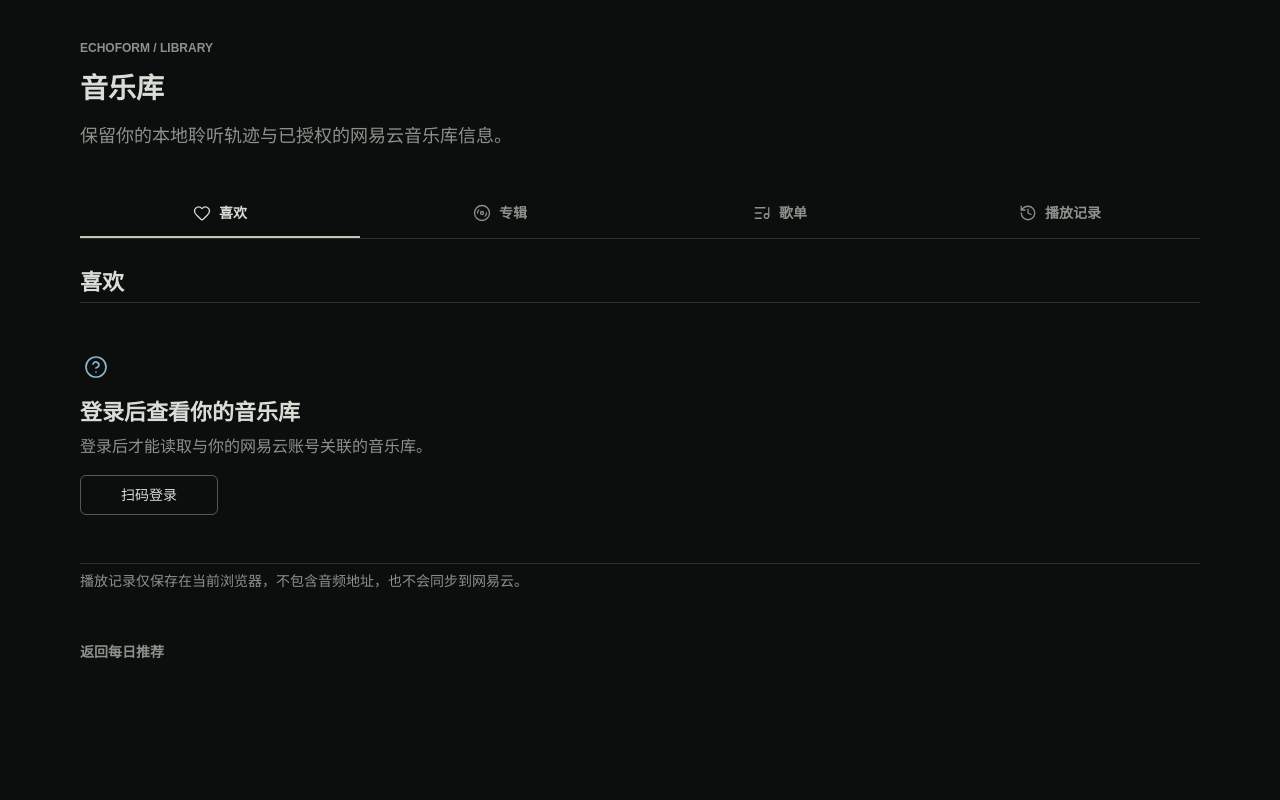
Test: LibraryExperience › retains no fabricated history after a storage failure and retries the read
Step 1. Click the tab "播放记录" → (1060, 214), box [920,190,1200,238]
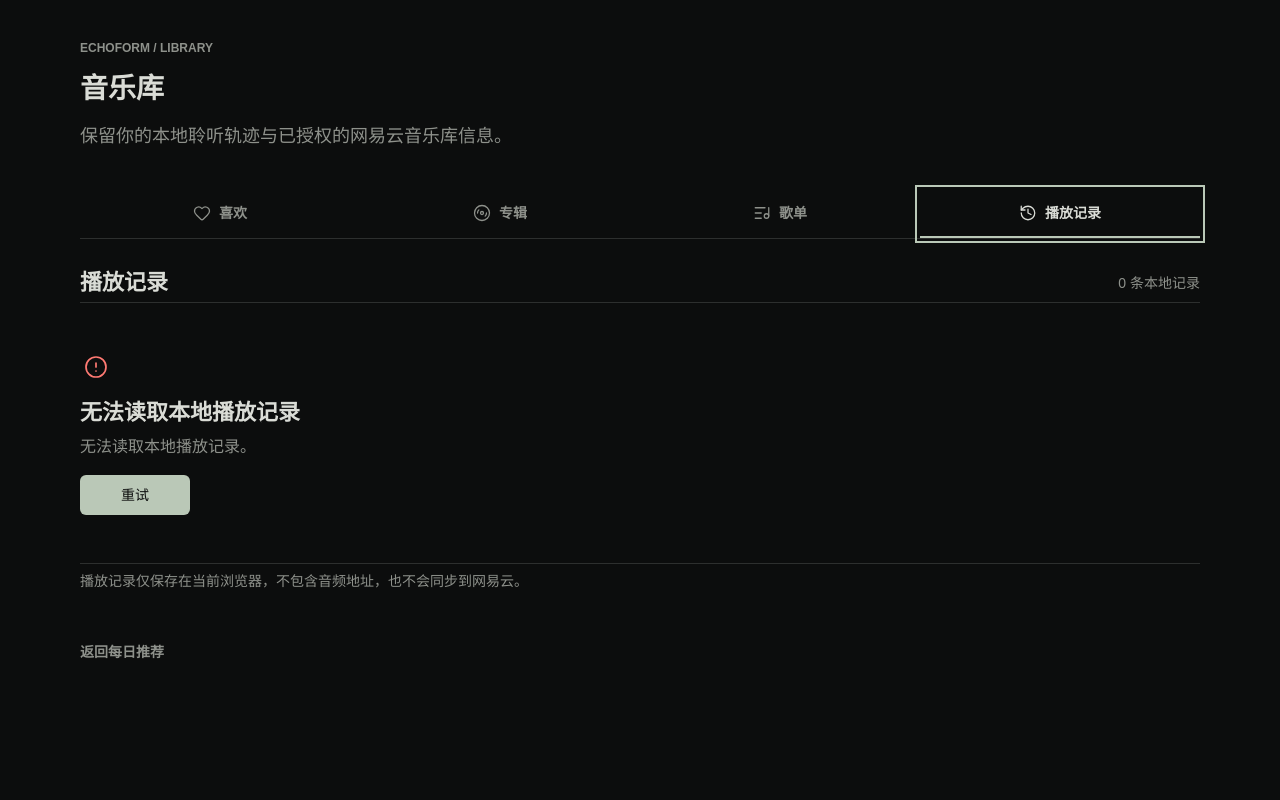
expect the text "Track retry" is not shown: met
expect the heading "无法读取本地播放记录" is shown: met, box [80,399,300,427]
Step 2. Click the button "重试" → (135, 495), box [80,475,190,515]
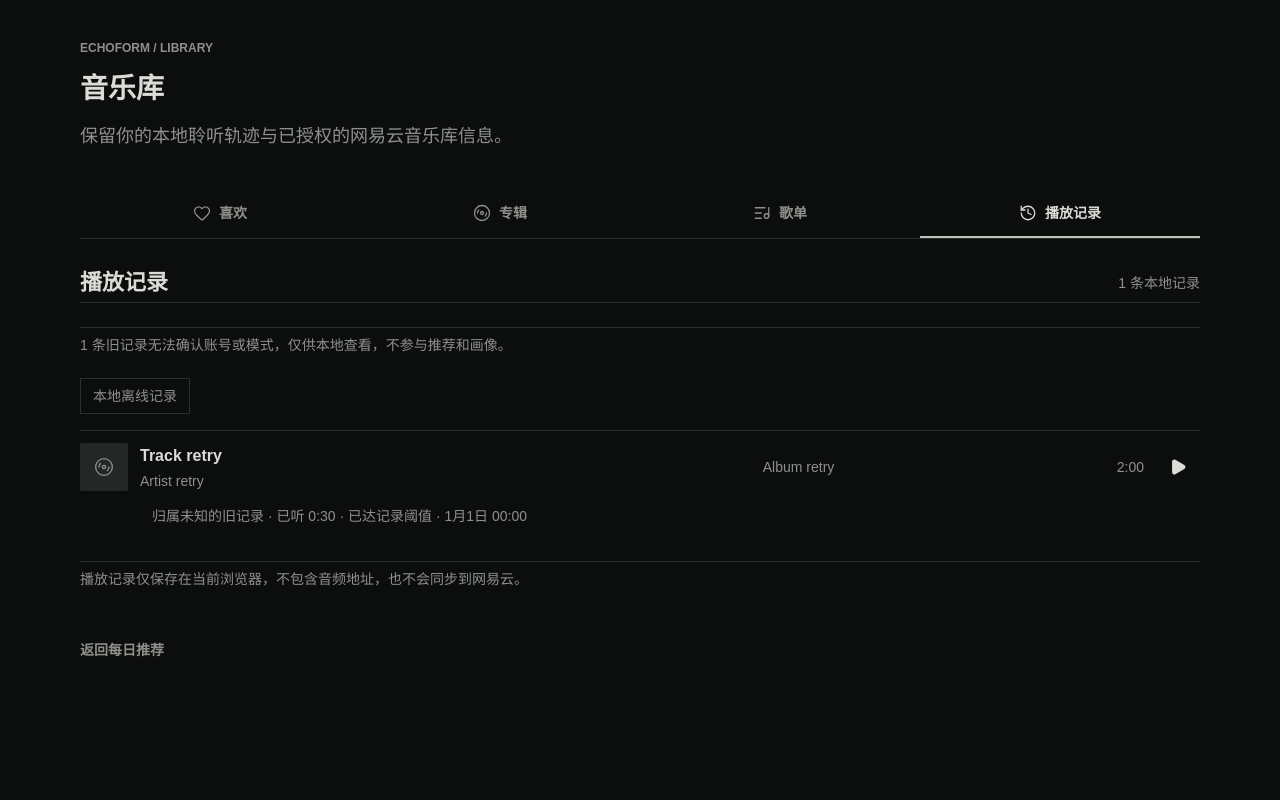
expect the text "Track retry" is shown: met, box [140,444,222,468]
